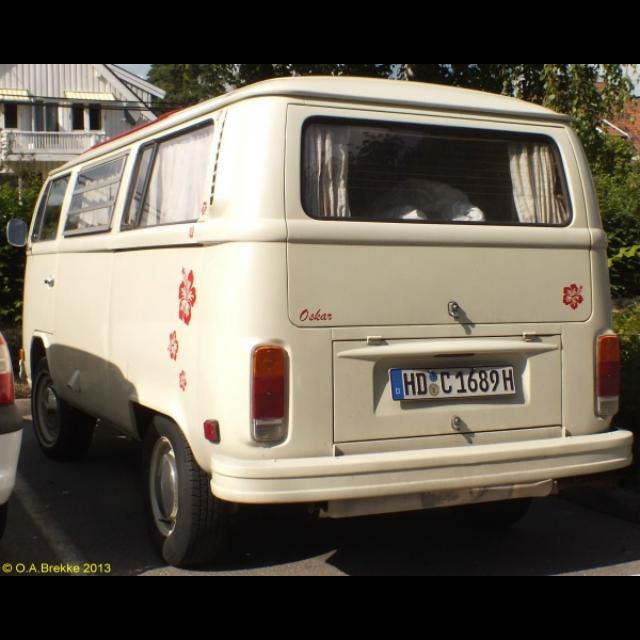license-plates: (390, 367, 515, 400)
